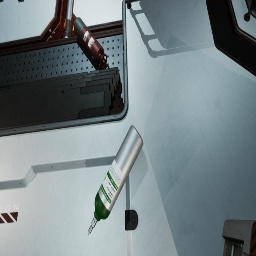0: (88, 125, 143, 235)
NitrogenTank ,: (74, 17, 107, 69)
